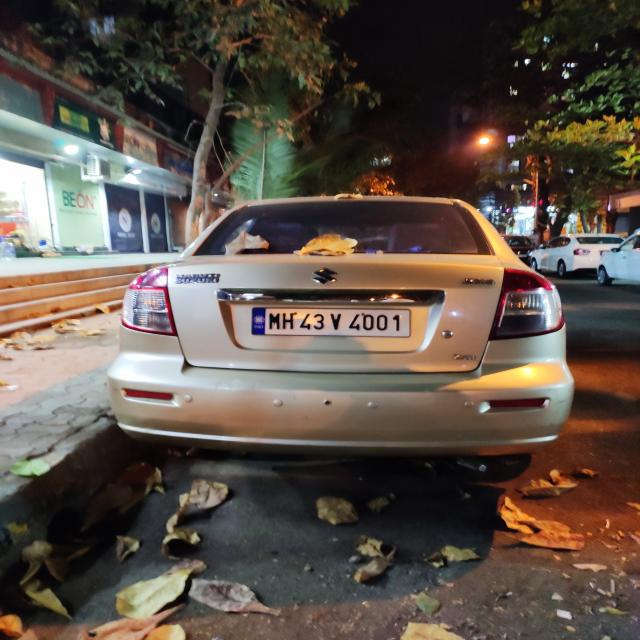Number-Plate: (253, 304, 412, 335)
